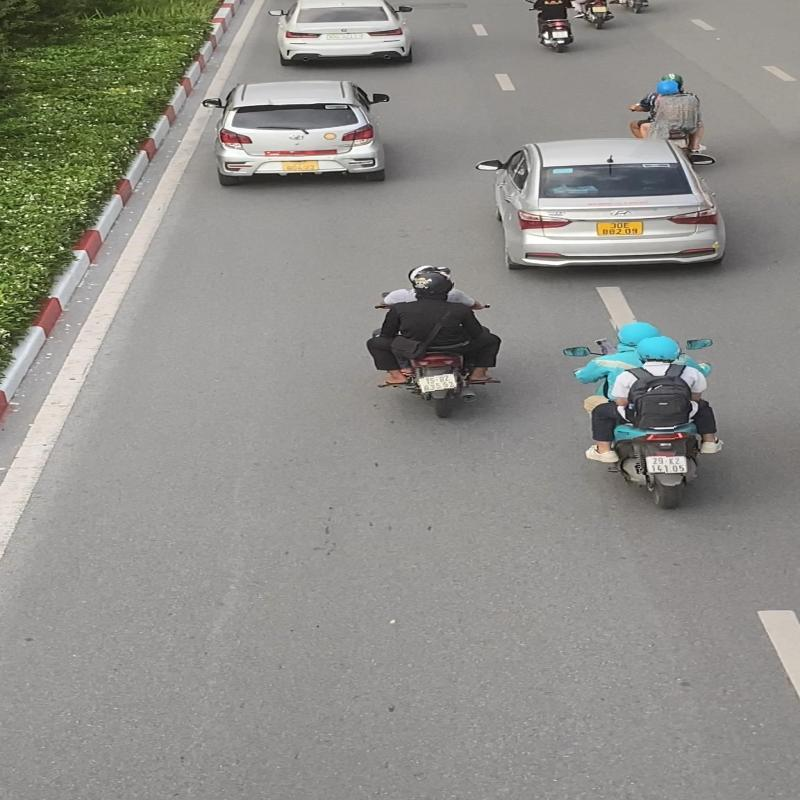helmet: (635, 331, 686, 364), (615, 320, 662, 346), (412, 272, 453, 294)
licenseplate: (640, 454, 690, 477), (415, 372, 462, 394)
motorcyclist: (558, 316, 732, 515), (360, 262, 508, 421)
